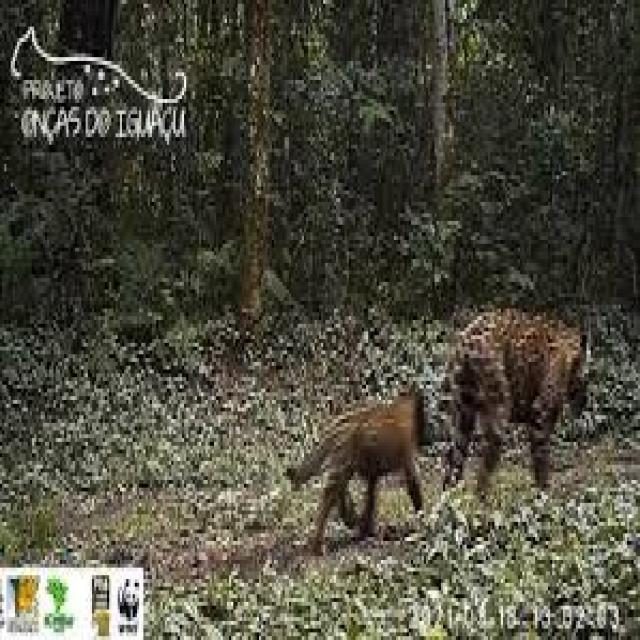Jaguar: (436, 293, 590, 507), (283, 384, 430, 530)
